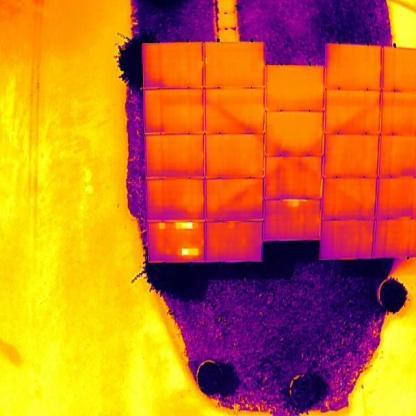anomaly: (178, 246, 200, 258), (172, 222, 195, 231)
